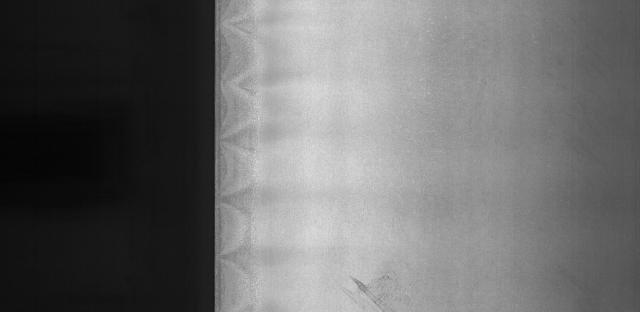water_spot: (346, 260, 400, 312)
